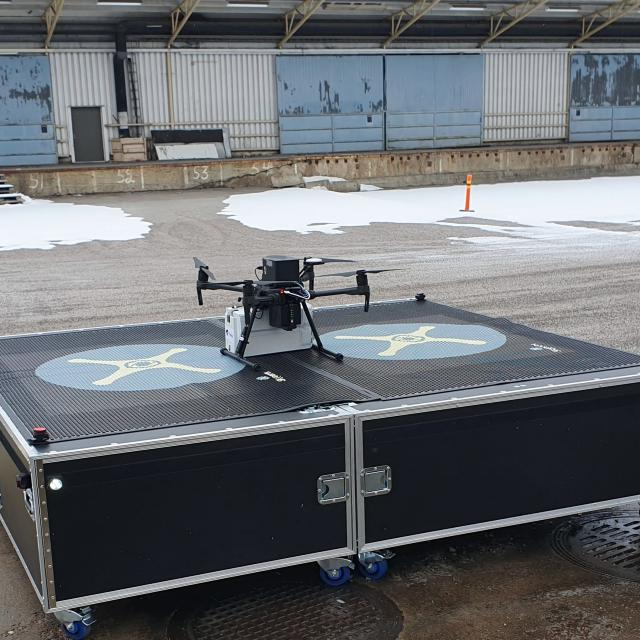drone: (187, 238, 410, 321)
